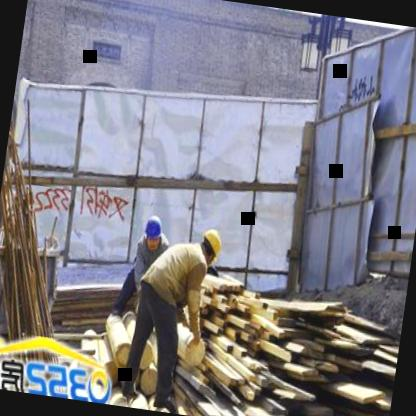helmet: (194, 223, 226, 268), (141, 211, 165, 254)
